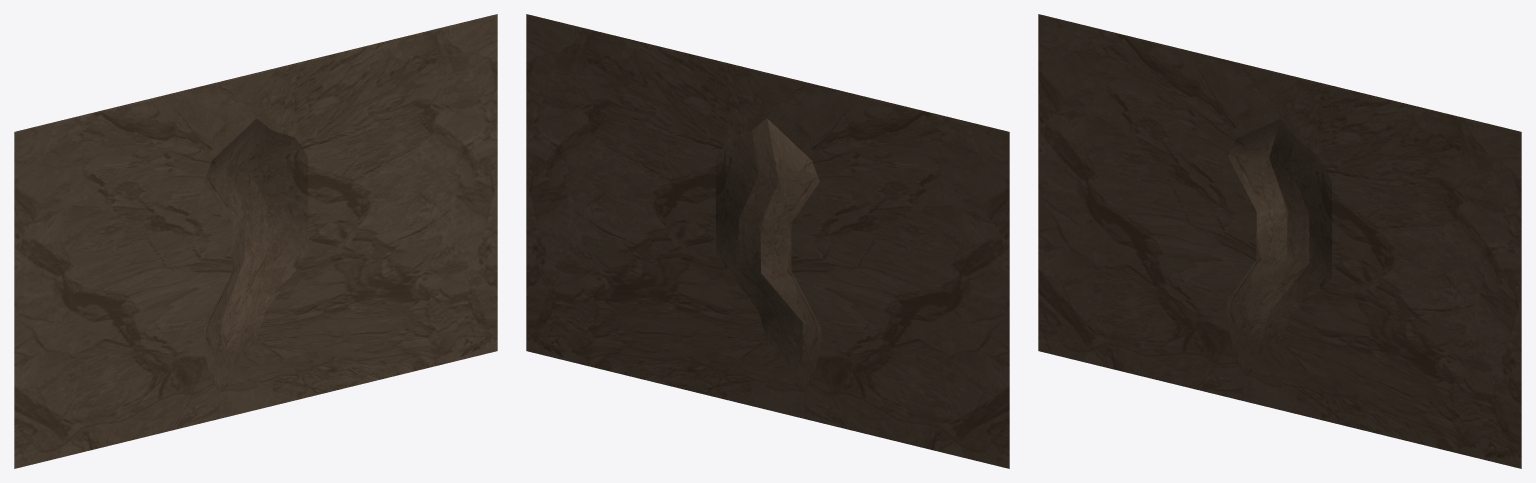
File: fundo4.FBX
3 renders of one model, left to right at view 1: azimuth 30°, elevation 25°; view 2: azimuth 150°, elevation 25°; view 3: azimuth 330°, elevation 25°, orthographic.
Parts seen in each view (by area): view 1: Plane011; view 2: Plane011; view 3: Plane011.
Boxes of the visible parts, left/top/right/bottom form: Plane011: left=14, top=14, right=497, bottom=468; Plane011: left=526, top=14, right=1009, bottom=468; Plane011: left=1038, top=14, right=1521, bottom=468.
Size of the model in its own units: 244 by 163 by 8.08.
